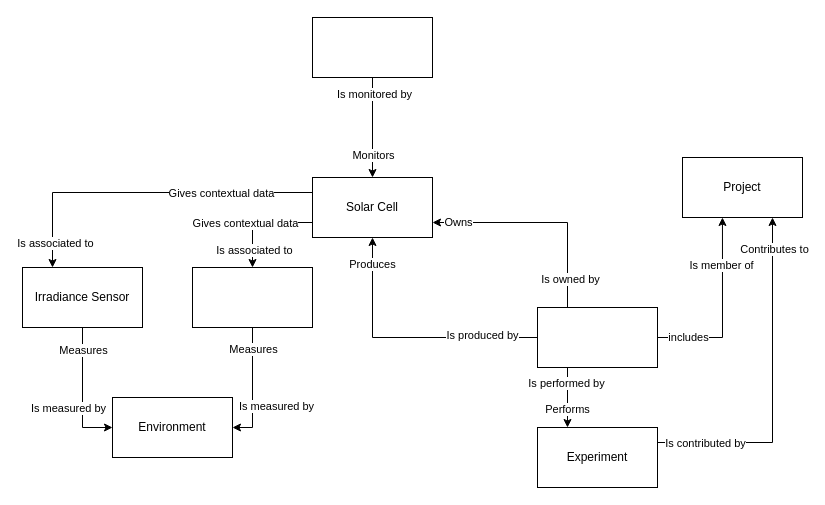
The diagram is 825 pixels wide and 505 high, and some of its shapes have lost their labels. Each missing label, with the centre of its shape:
MPP Tracker: pixel 372 47
Scientist: pixel 597 337
Temperature sensor: pixel 252 297
